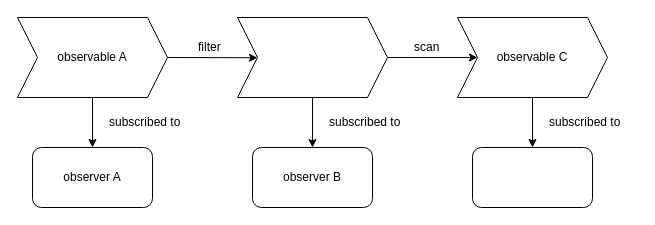
Some shapes in this 655 by 225 pixel diagram are drawn without their labels. Each missing label, with the centre of its shape:
observable B: point 312,57
observer C: point 532,177
